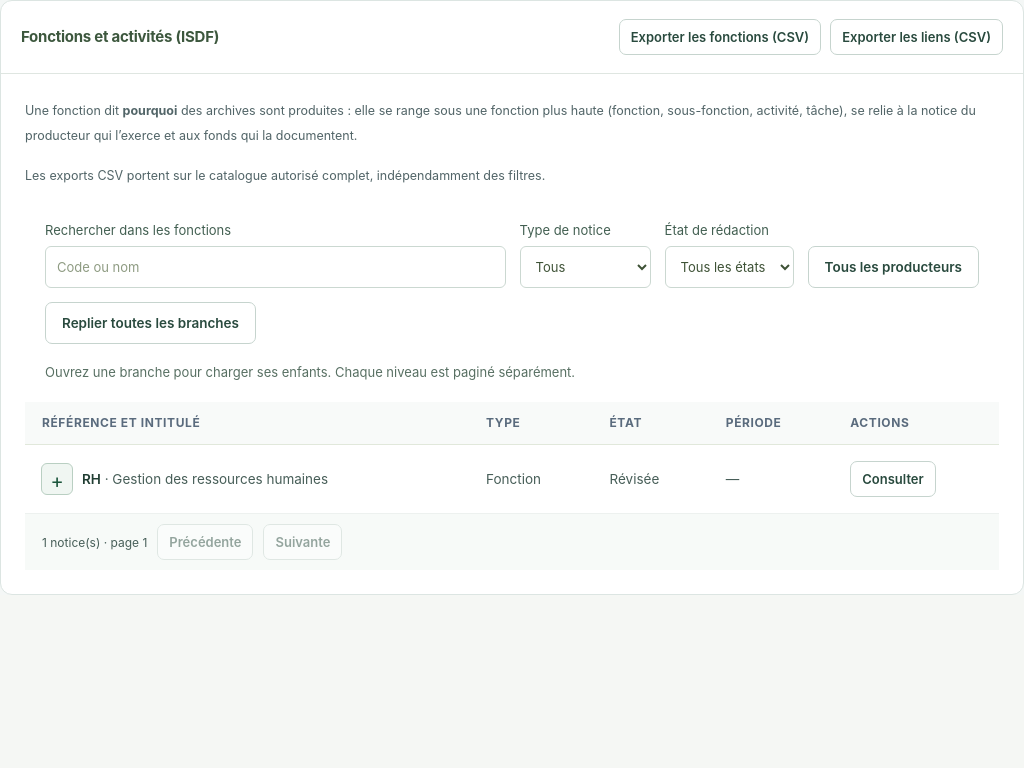
Scenario: les commandes CSV suivent séparément les droits de gestion et d’export
Click the button "Exporter les fonctions (CSV)". click: {"x": 720, "y": 37}
box: x1=619 y1=19 x2=821 y2=55
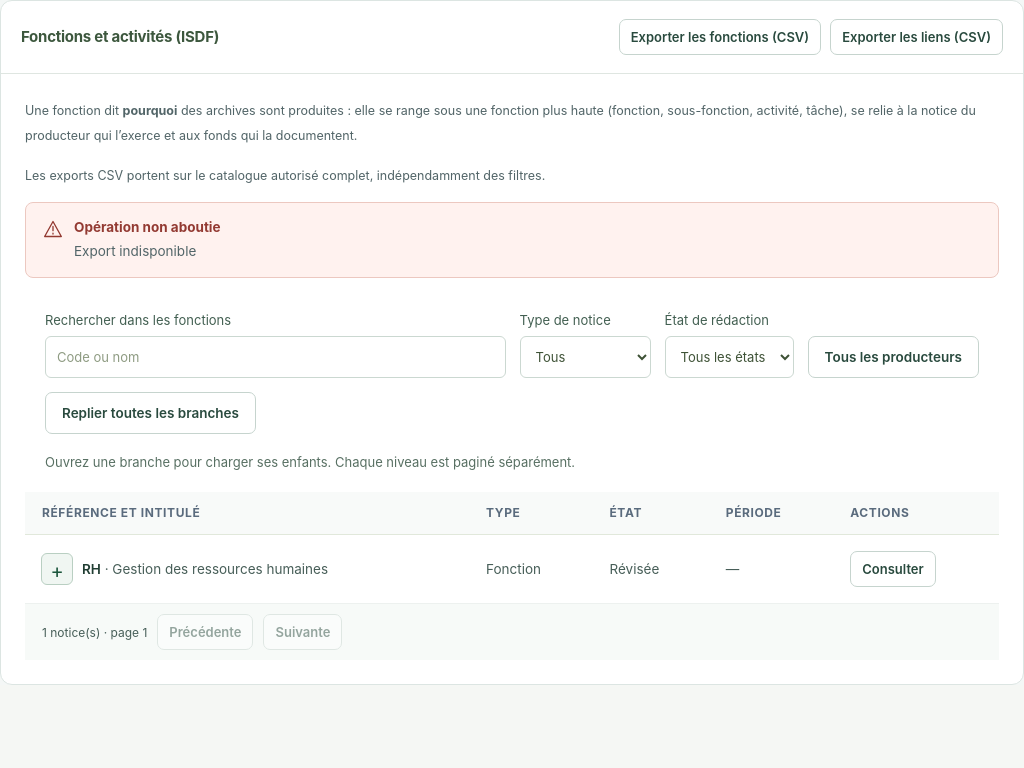
Check: the text "Export indisponible" is shown, box x1=74 y1=243 x2=196 y2=259
